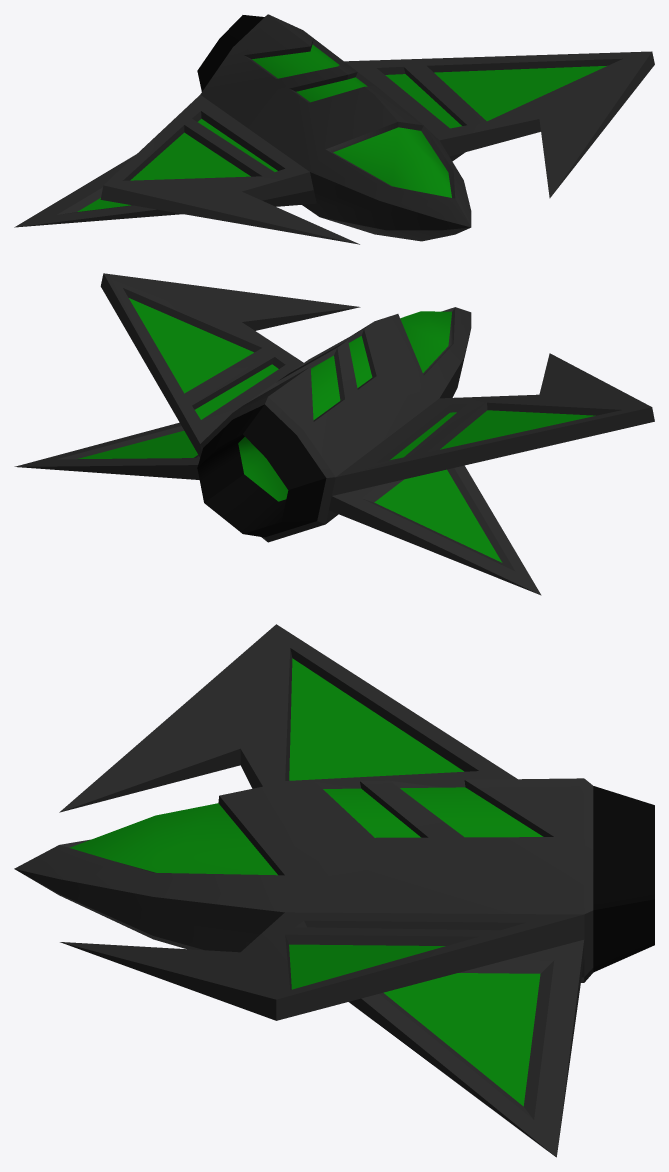
The model's file is X-Jet_Idle.dae.
The picture shows the model from 3 angles, top to bottom: view 1: azimuth 30°, elevation 25°; view 2: azimuth 150°, elevation 25°; view 3: azimuth 270°, elevation 25°; orthographic projection. The views are drawn at different scales.
Parts seen in each view (by area): view 1: xJet__racer; view 2: xJet__racer; view 3: xJet__racer.
Part boxes in pixels (x1,y1,x2,y2): xJet__racer: (14, 14, 654, 244); xJet__racer: (14, 273, 654, 595); xJet__racer: (14, 624, 654, 1157).
Bounding box in the file's own units: 4.98 × 1.25 × 3.56.
